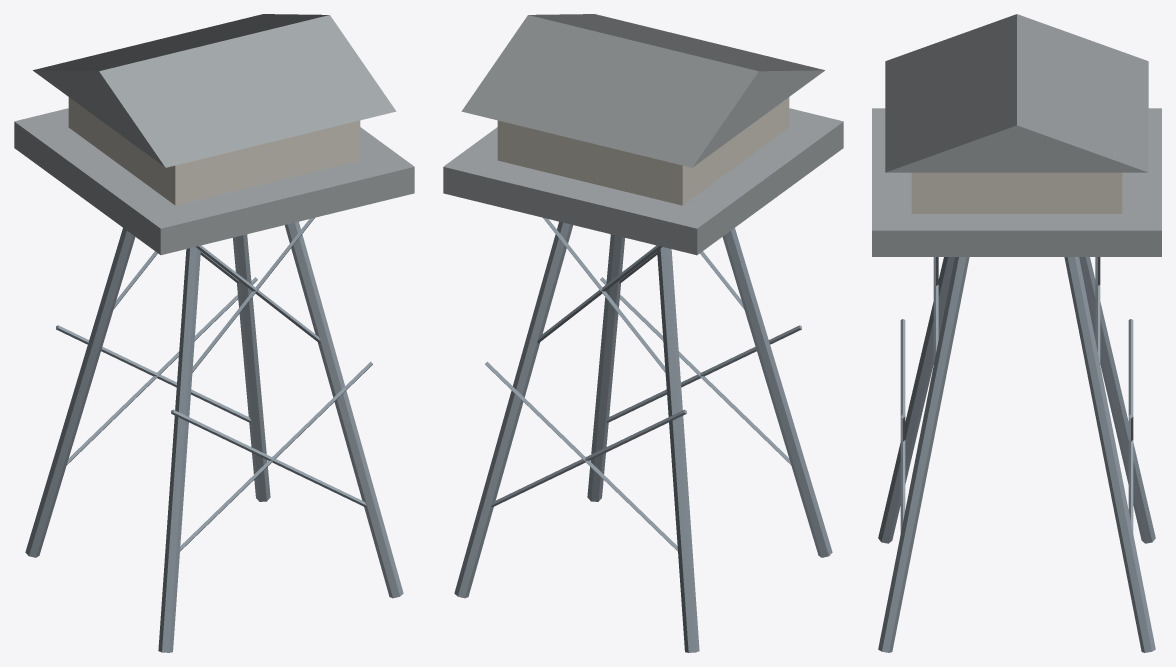
The model's file is source.glb.
3 views of the same model, side by side, from view 1: azimuth 30°, elevation 25°; view 2: azimuth 150°, elevation 25°; view 3: azimuth 270°, elevation 25° (orthographic).
Visible parts, largest first — view 1: worldgen; view 2: worldgen; view 3: worldgen.
Part boxes in pixels (x1,y1,x2,y2): worldgen: (14, 14, 414, 652); worldgen: (443, 14, 843, 652); worldgen: (872, 14, 1161, 652).
Size of the model in its own units: 22 by 44.14 by 22.
